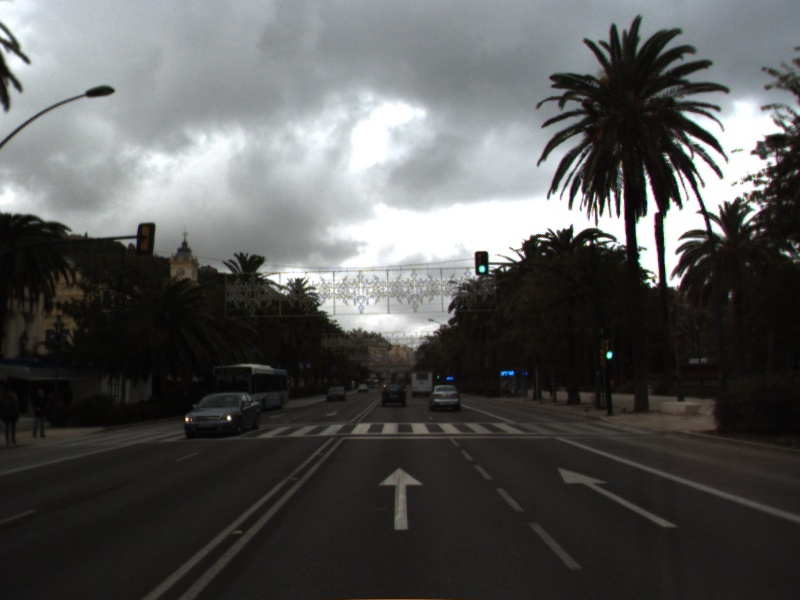STRAIGHT: (556, 466, 680, 530), (375, 465, 426, 532)
